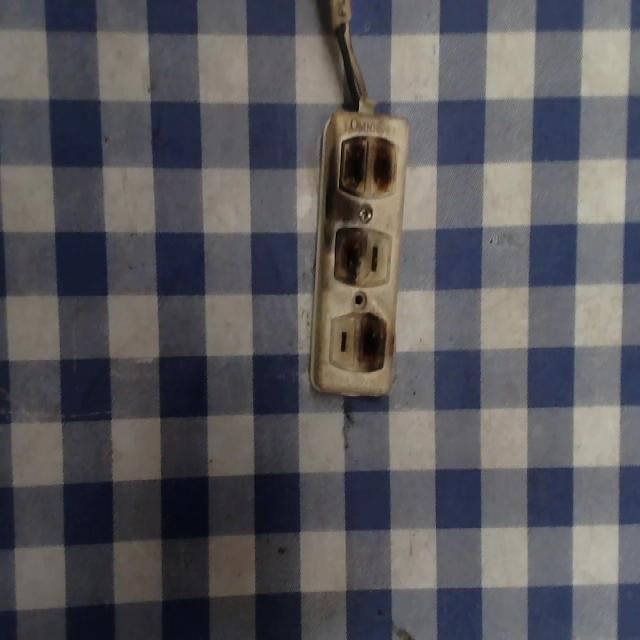-: (335, 122, 399, 206), (330, 222, 367, 290), (356, 311, 390, 376)
